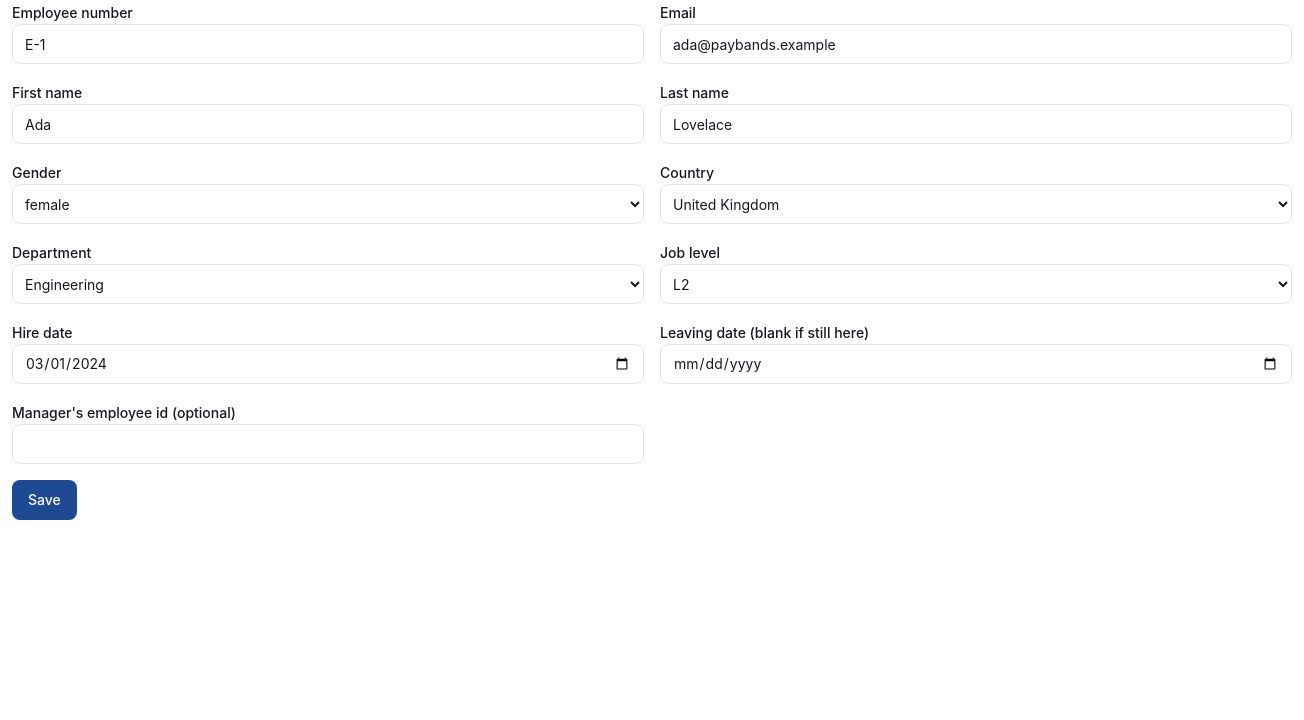
Test: EmployeeForm › shows the server's own words when the browser was happy and it was not
The image size is (1304, 720).
Replace the text in the field labelled "First name" with "Grace" at (328, 124), box [12,104,644,144]
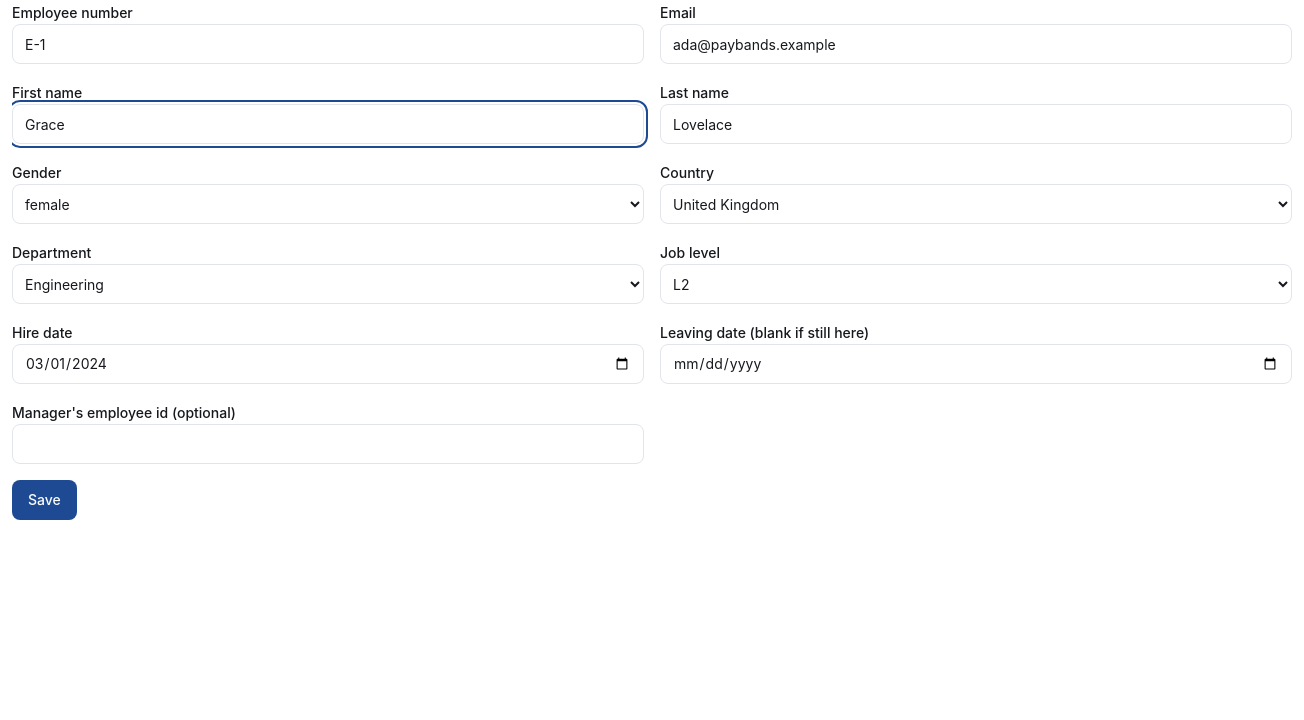
Click the button "Save" at (44, 500), box [12,480,77,520]
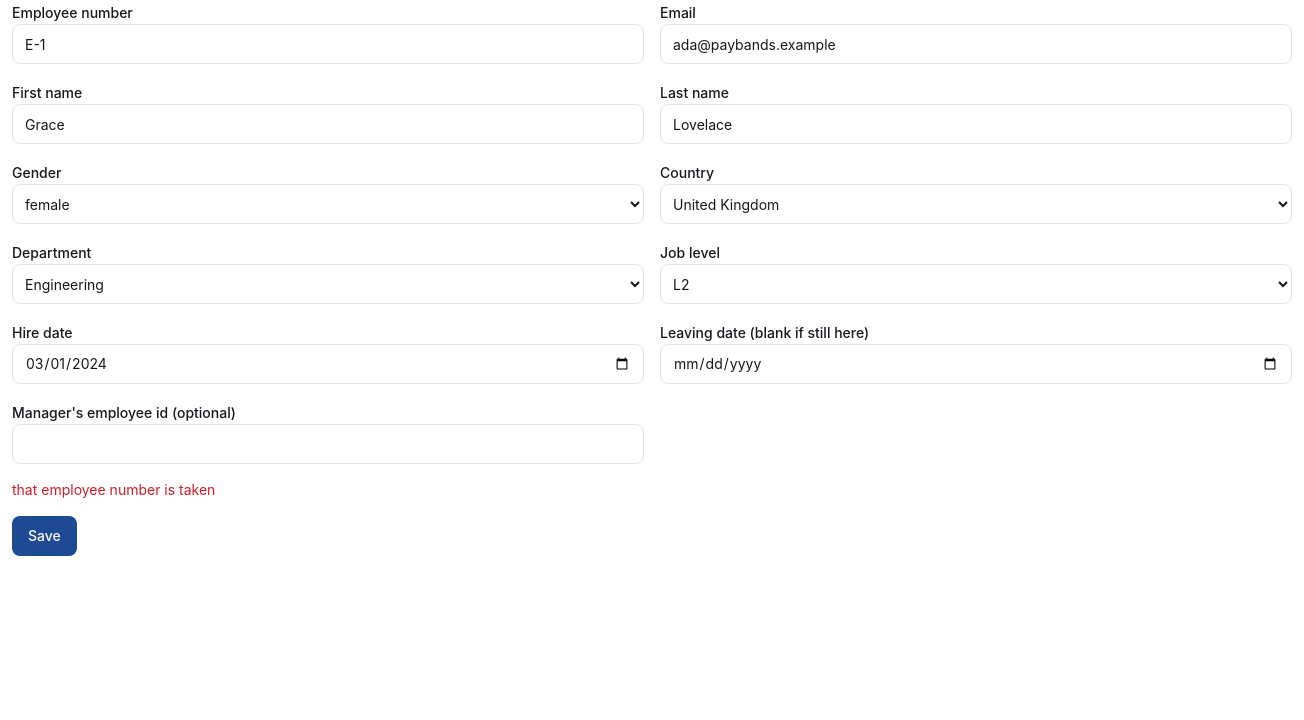
expect the message reads "that employee number is taken": met, box [12,481,215,498]
